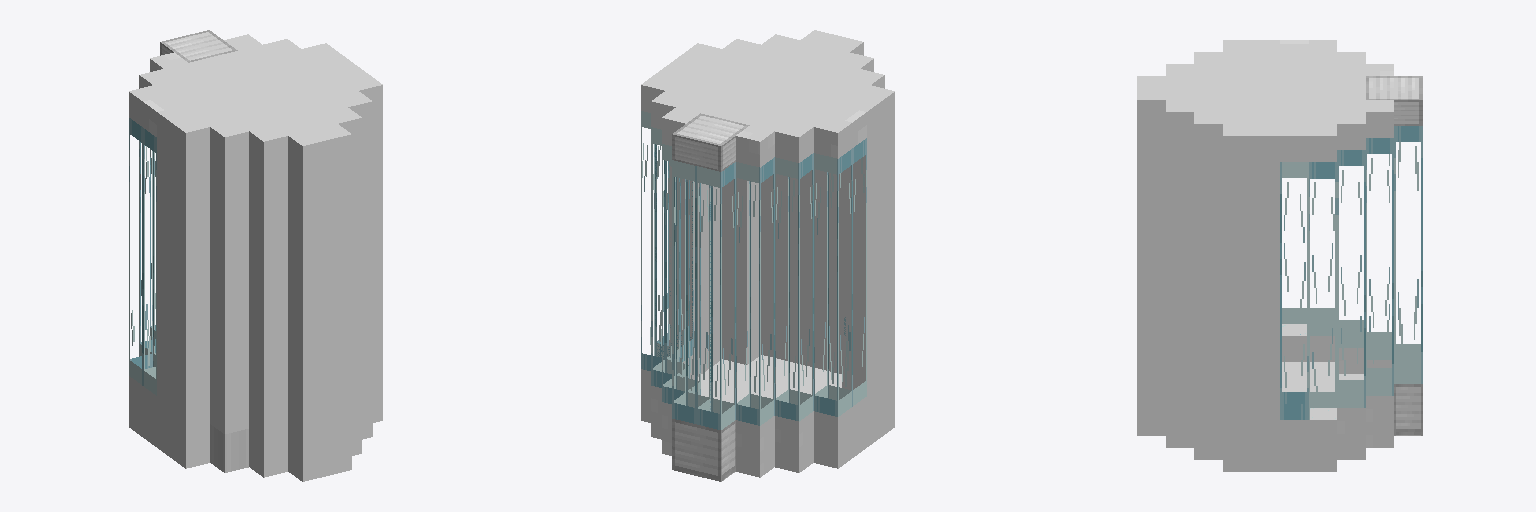
The picture shows the model from 3 angles: view 1: azimuth 30°, elevation 25°; view 2: azimuth 150°, elevation 25°; view 3: azimuth 270°, elevation 25°; orthographic projection.
Parts seen in each view (by area): view 1: cube; view 2: cube; view 3: cube.
Boxes of the visible parts, x1,y1,x2,y2 form: cube: [129, 30, 382, 481]; cube: [641, 30, 894, 481]; cube: [1137, 40, 1422, 471].
Bounding box in the file's own units: 0.5 × 0.8125 × 0.625.
1 materials, 1 textured.